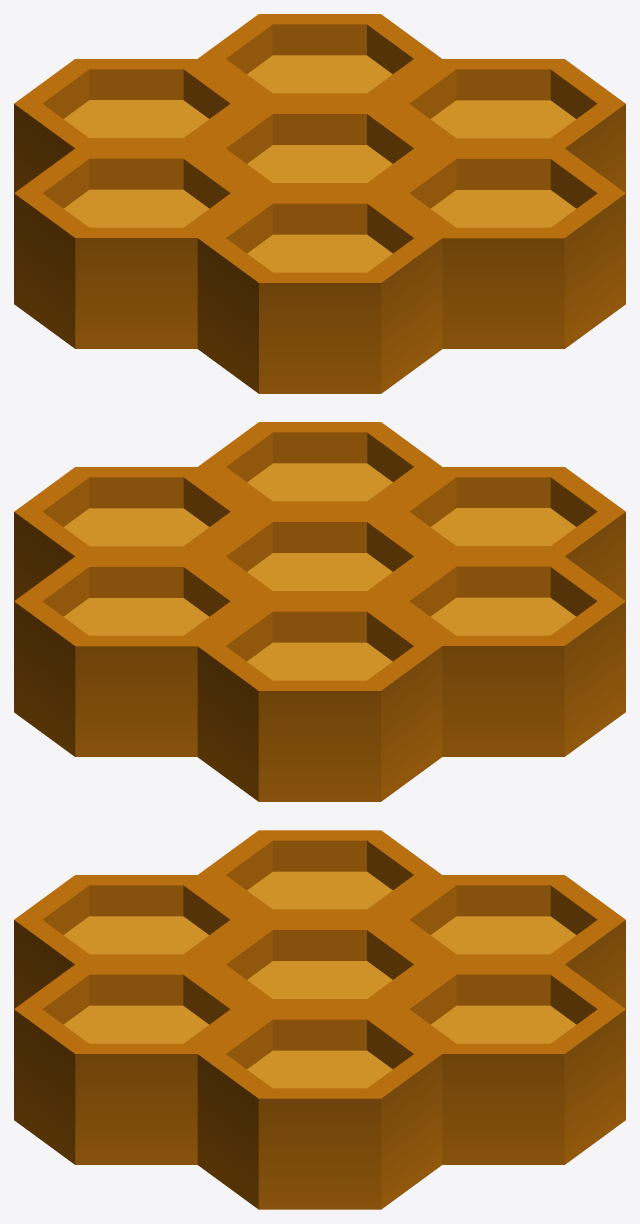
Rendered from honey.glb.
3 views of the same model, one above another, from view 1: azimuth 30°, elevation 25°; view 2: azimuth 150°, elevation 25°; view 3: azimuth 270°, elevation 25° (orthographic).
Visible parts, largest first — view 1: Cylinder.008; view 2: Cylinder.008; view 3: Cylinder.008.
Boxes of the visible parts, left/top/right/bottom form: Cylinder.008: left=14, top=14, right=625, bottom=393; Cylinder.008: left=14, top=422, right=625, bottom=801; Cylinder.008: left=14, top=830, right=625, bottom=1209.
Size of the model in its own units: 5.19 by 1 by 5.
Materials: 1 (1 with a texture image).
